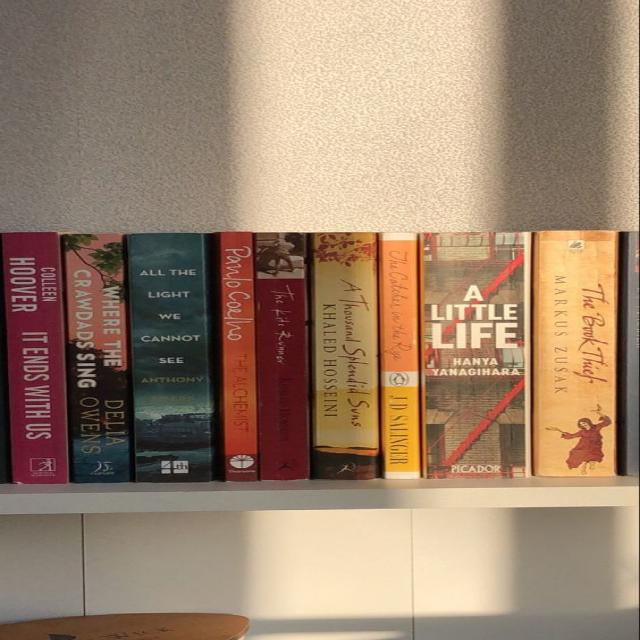book: (421, 234, 529, 479), (127, 234, 219, 482), (532, 230, 617, 477), (0, 232, 68, 484), (61, 234, 130, 481), (311, 234, 379, 479), (254, 234, 309, 479), (216, 232, 258, 481), (379, 234, 421, 479)
